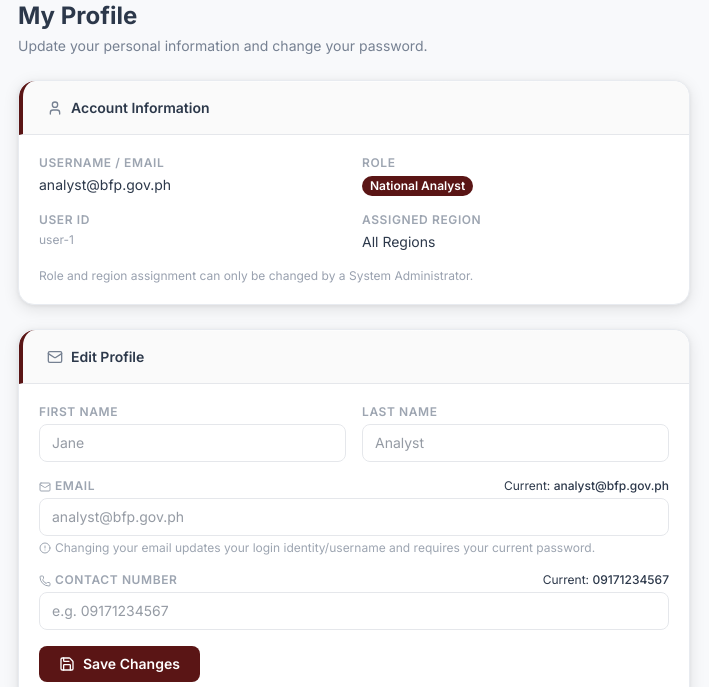
Test: ProfilePage › profile save › requires current password when saving an email change
Expected: the text "All Regions" is shown, [362, 233, 435, 250]
Type "new.email@bfp.gov.ph" into the field with placeholder "analyst@bfp.gov.ph".
click(354, 517); type("new.email@bfp.gov.ph")  # box [39, 498, 669, 536]
(page scrolled)
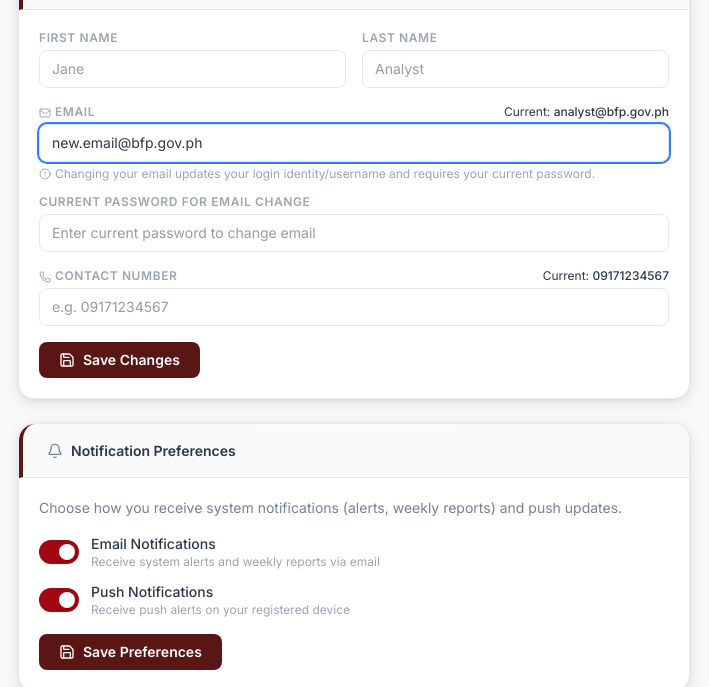
Click the button "Save Changes".
click(119, 360)  # box [39, 342, 200, 378]
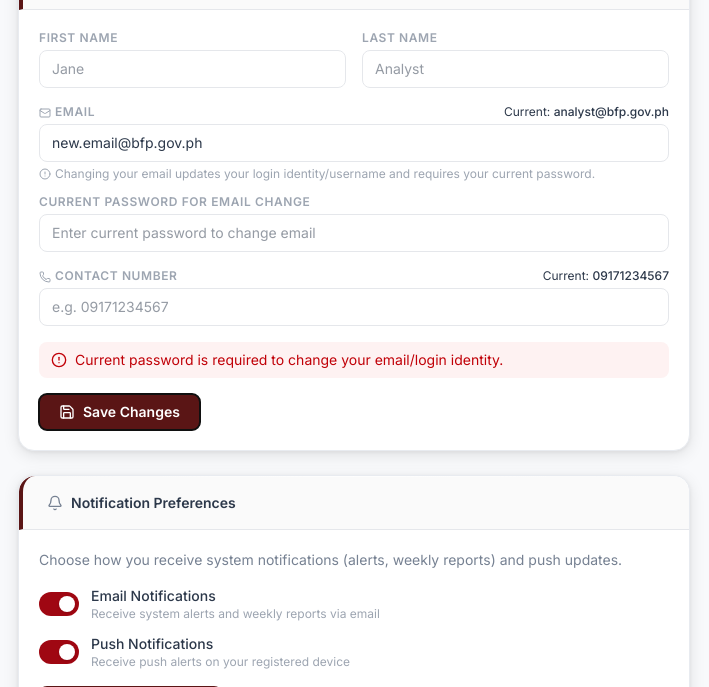
Result: the text "Current password is required" is shown at [75, 351, 503, 368]
